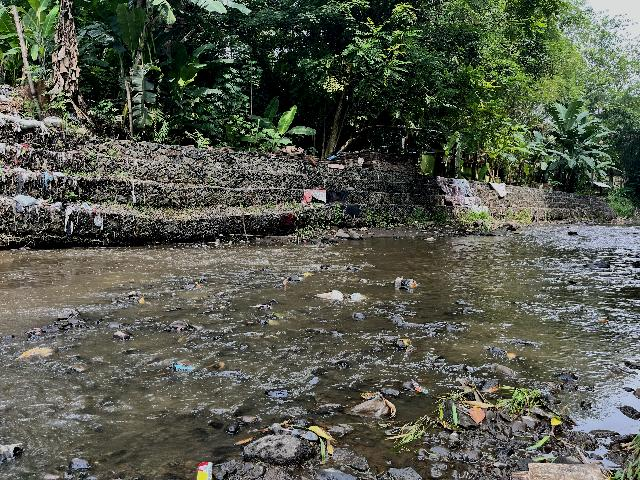Sampah Anorganik: (347, 391, 399, 419), (391, 274, 421, 294), (194, 460, 214, 480), (314, 289, 343, 302), (411, 376, 428, 395), (250, 302, 274, 312), (349, 291, 364, 303), (302, 271, 313, 278), (216, 292, 224, 298)
Sampah Organik: (431, 370, 554, 428), (229, 423, 339, 459), (508, 460, 640, 480), (13, 347, 55, 361), (167, 357, 198, 372), (395, 337, 413, 351), (21, 327, 42, 336), (208, 359, 226, 369), (137, 296, 149, 305), (504, 352, 517, 359), (267, 319, 280, 326), (177, 323, 188, 331), (274, 313, 284, 319), (194, 281, 201, 288), (281, 279, 287, 285)
